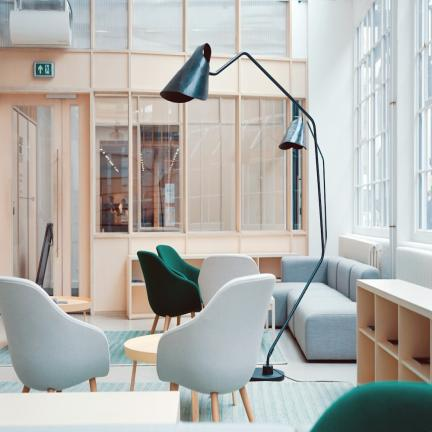Tv: (10, 0, 71, 46)
book: (357, 279, 432, 383), (126, 255, 155, 319), (248, 253, 283, 279), (181, 255, 209, 267)
cabinet: (247, 380, 353, 426), (219, 394, 247, 422), (135, 381, 168, 392), (181, 388, 191, 421), (199, 394, 211, 421), (99, 382, 129, 392), (0, 380, 22, 392), (67, 383, 89, 392), (0, 348, 7, 361), (121, 331, 140, 335), (107, 332, 115, 339), (117, 338, 121, 343), (110, 338, 114, 343), (143, 367, 148, 369), (114, 356, 117, 359), (141, 332, 144, 334), (117, 367, 121, 368), (264, 333, 265, 335), (265, 334, 267, 335)
carpet: (157, 274, 275, 422), (0, 277, 109, 391), (311, 381, 432, 431), (137, 251, 201, 334), (198, 254, 259, 306), (156, 246, 199, 285)
curtain: (0, 94, 94, 296), (41, 270, 43, 272)
door: (279, 331, 356, 385), (87, 313, 152, 329), (97, 367, 130, 389), (137, 366, 158, 380), (0, 367, 19, 381), (0, 317, 8, 347), (71, 314, 82, 320), (181, 317, 187, 324), (158, 323, 162, 329), (187, 317, 191, 321)
microwave: (108, 196, 120, 231), (119, 198, 128, 225)
vegetables: (307, 0, 355, 255), (307, 135, 319, 255), (320, 165, 321, 175)
wall: (95, 95, 302, 233), (355, 0, 391, 234), (414, 0, 432, 235), (96, 147, 98, 154), (299, 101, 301, 103)
